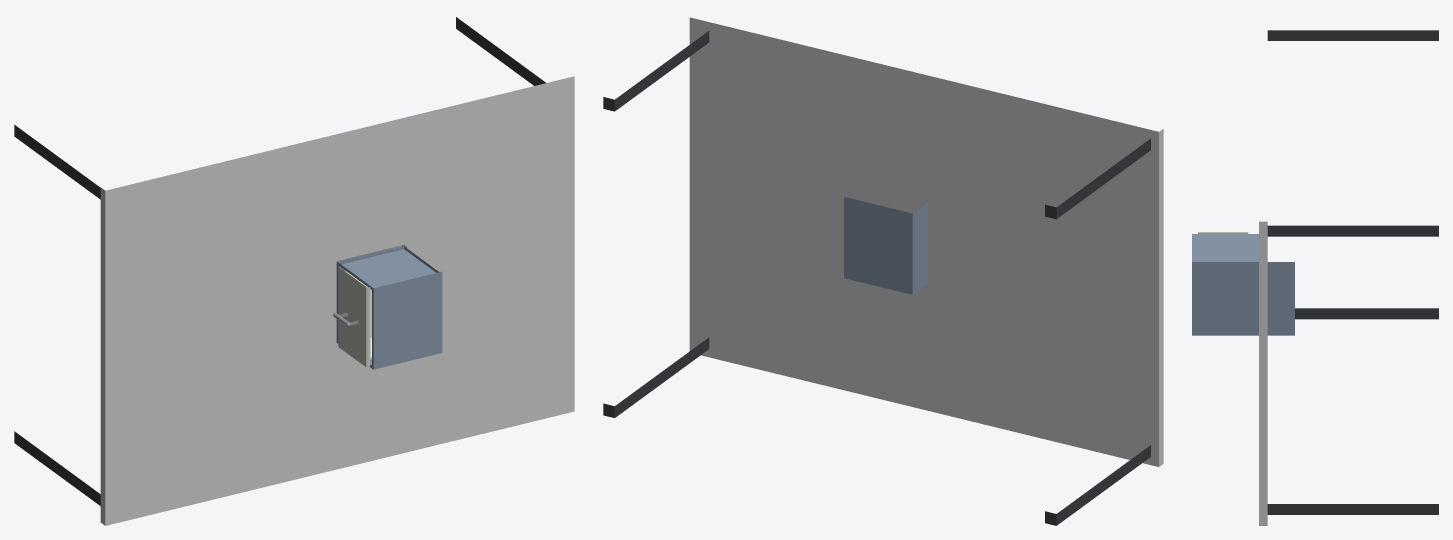
Rendered from t2_55eaa7427c.glb.
3 renders of one model, left to right at view 1: azimuth 30°, elevation 25°; view 2: azimuth 150°, elevation 25°; view 3: azimuth 270°, elevation 25°, orthographic. The views are drawn at different scales.
Visible parts, largest first — view 1: s0, s1, s2; view 2: s0, s1; view 3: s0, s1.
Boxes of the visible parts, x1=… form: s0: x1=14, y1=17, x2=574, y2=525; s1: x1=336, y1=245, x2=442, y2=369; s2: x1=333, y1=267, x2=371, y2=367; s0: x1=603, y1=17, x2=1163, y2=525; s1: x1=844, y1=197, x2=927, y2=294; s0: x1=1259, y1=30, x2=1438, y2=525; s1: x1=1192, y1=234, x2=1294, y2=335.
Bounding box in the file's own units: 2.05 × 1.4 × 1.03.
